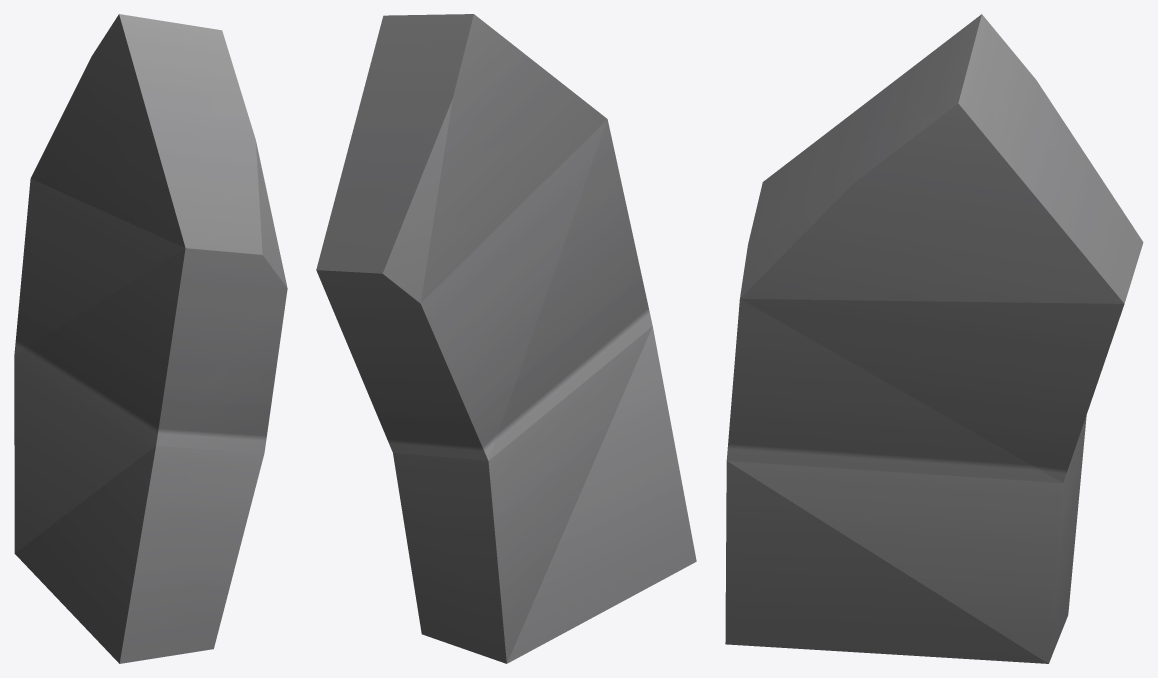
File: ea_grave_stone_mini_01c_pre__22__lev1.glb
The picture shows the model from 3 angles, left to right: view 1: azimuth 30°, elevation 25°; view 2: azimuth 150°, elevation 25°; view 3: azimuth 270°, elevation 25°; orthographic projection. The views are drawn at different scales.
Parts seen in each view (by area): view 1: ea_grave_stone_mini_01c_pre__22__lev1; view 2: ea_grave_stone_mini_01c_pre__22__lev1; view 3: ea_grave_stone_mini_01c_pre__22__lev1.
Part boxes in pixels (bbox=[...]): ea_grave_stone_mini_01c_pre__22__lev1: bbox=[14, 14, 287, 663]; ea_grave_stone_mini_01c_pre__22__lev1: bbox=[316, 14, 696, 663]; ea_grave_stone_mini_01c_pre__22__lev1: bbox=[725, 14, 1143, 663].
Size of the model in its own units: 0.5184 by 1.4 by 0.8308.
1 material, 1 textured.
